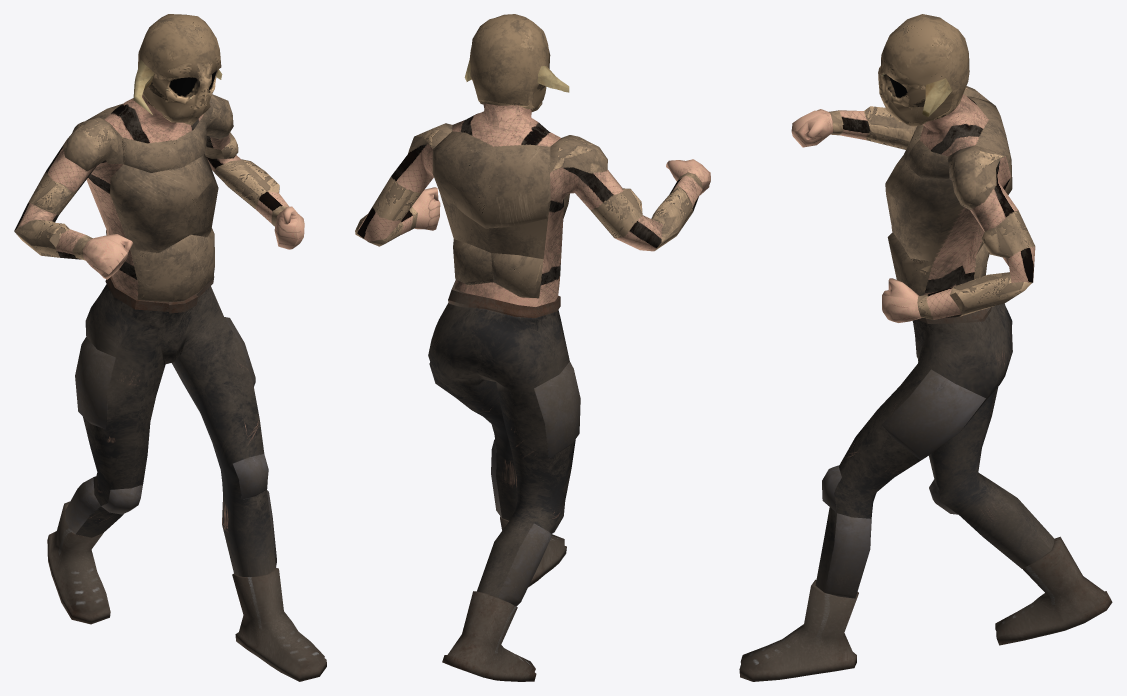
Rendered from Anim_ataque_d1_npc1.0026.obj.
3 views of the same model, side by side, from view 1: azimuth 30°, elevation 25°; view 2: azimuth 150°, elevation 25°; view 3: azimuth 270°, elevation 25° (orthographic). The views are drawn at different scales.
Visible parts, largest first — view 1: NPC2; view 2: NPC2; view 3: NPC2.
Boxes of the visible parts, <box> form: NPC2: <box>14,14,326,681</box>; NPC2: <box>355,14,710,681</box>; NPC2: <box>739,14,1112,681</box>.
Bounding box in the file's own units: 4.34 × 9.24 × 4.84.
